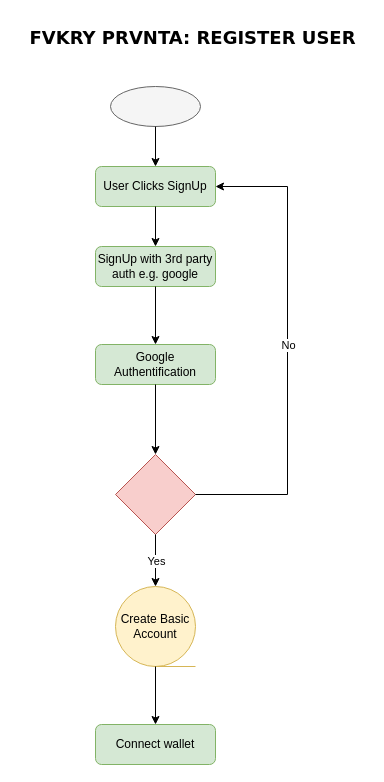
Some shapes in this 384 by 782 pixel diagram are drawn without their labels. The centre of each missing label's shape, as x and y in pixels:
Start: (x=155, y=106)
Successful?: (x=155, y=494)
